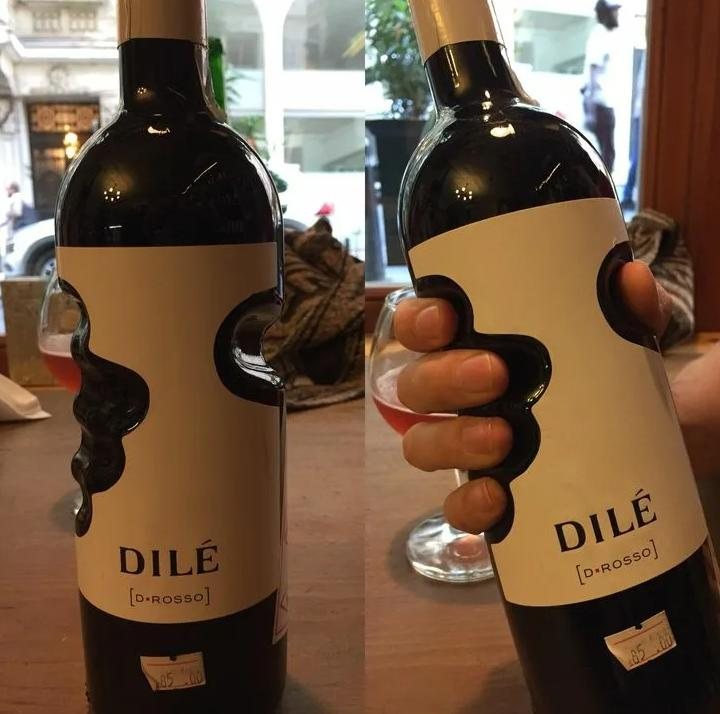wine bottle: (397, 0, 720, 714), (55, 0, 288, 713)
wine label: (407, 196, 709, 605), (57, 242, 281, 623)
